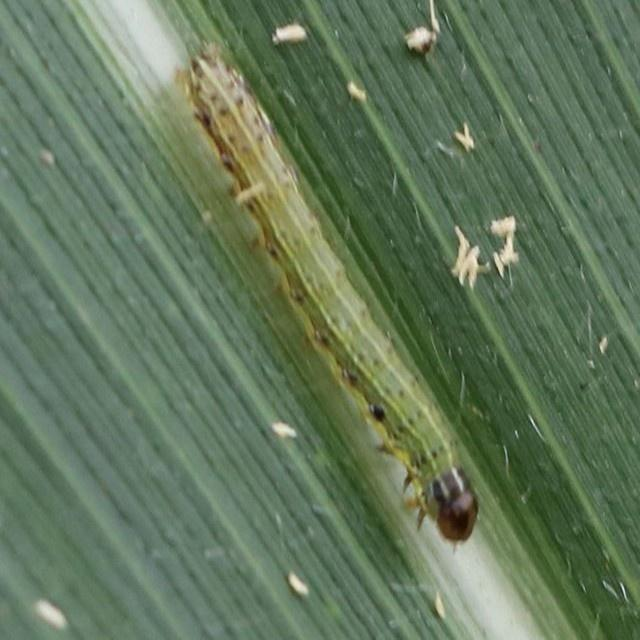gusano_cogollero: (177, 35, 478, 549)
